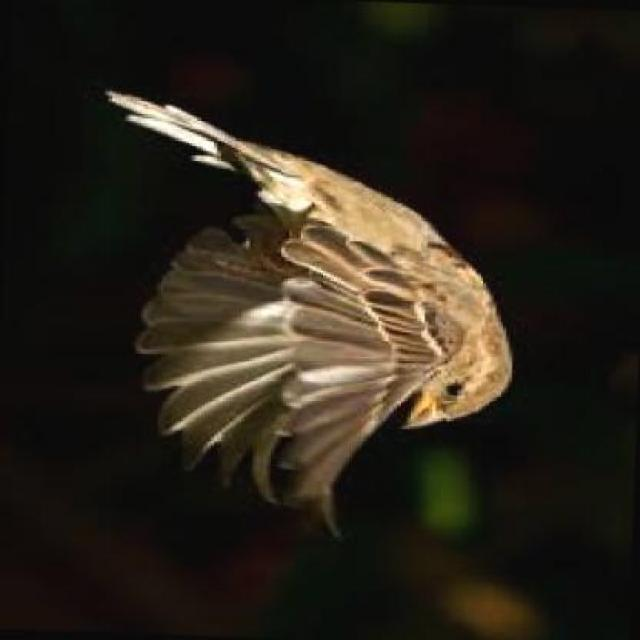Bird: (98, 86, 503, 513)
